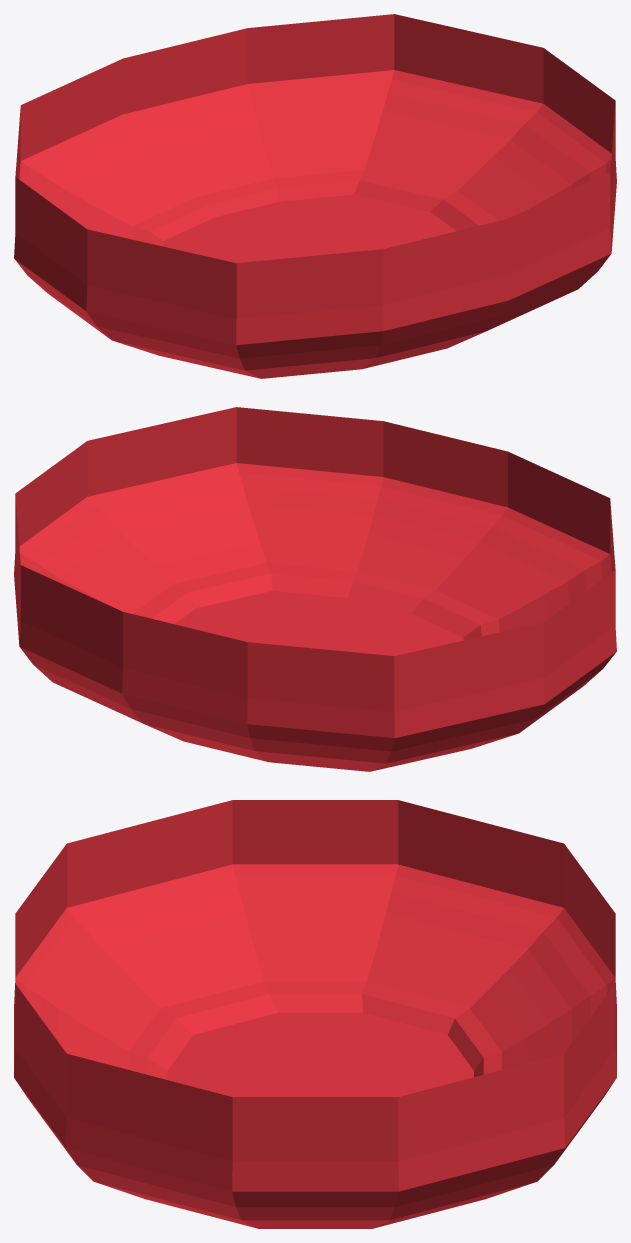
File: stadium.glb
The picture shows the model from 3 angles, top to bottom: view 1: azimuth 30°, elevation 25°; view 2: azimuth 150°, elevation 25°; view 3: azimuth 270°, elevation 25°; orthographic projection. The views are drawn at different scales.
Visible parts, largest first — view 1: Cube; view 2: Cube; view 3: Cube.
Boxes of the visible parts, <box> form: Cube: <box>14,14,616,378</box>; Cube: <box>14,407,616,771</box>; Cube: <box>14,800,616,1228</box>.
Bounding box in the file's own units: 8.25 × 2.3 × 7.05.
